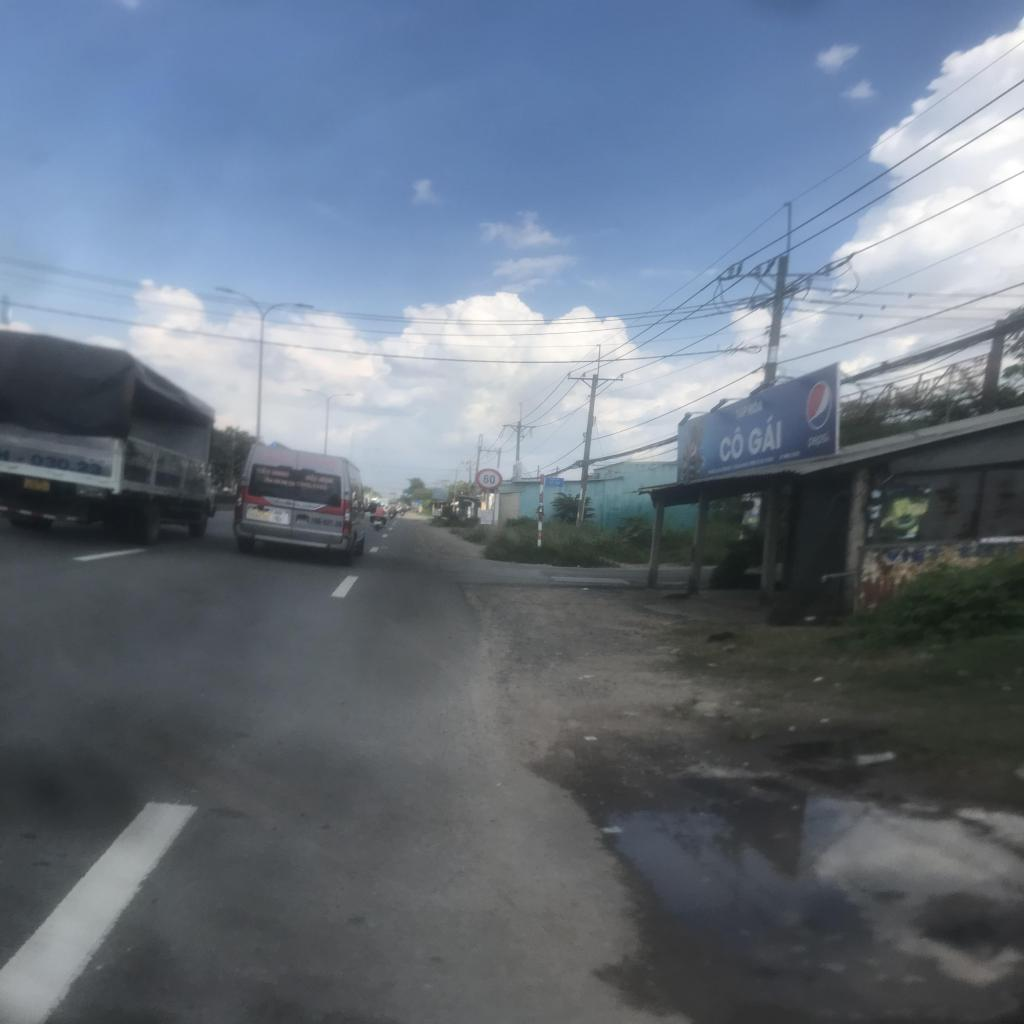toc_do_toi_da_60: (475, 468, 502, 490)
